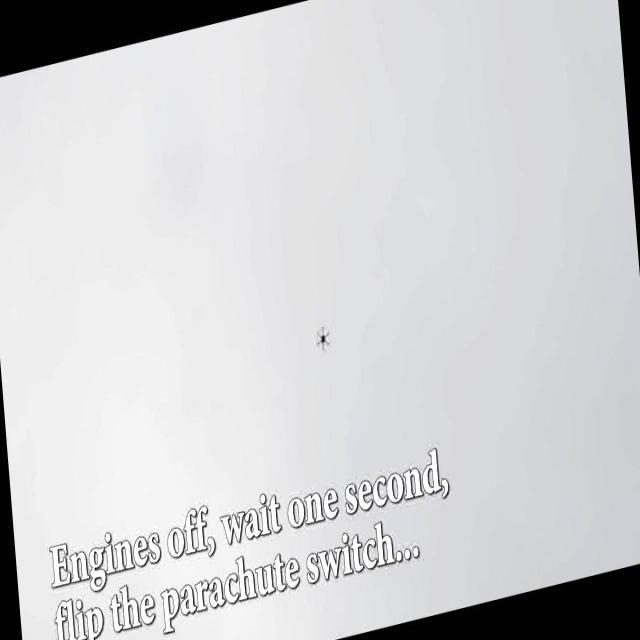drone: (315, 322, 332, 352)
